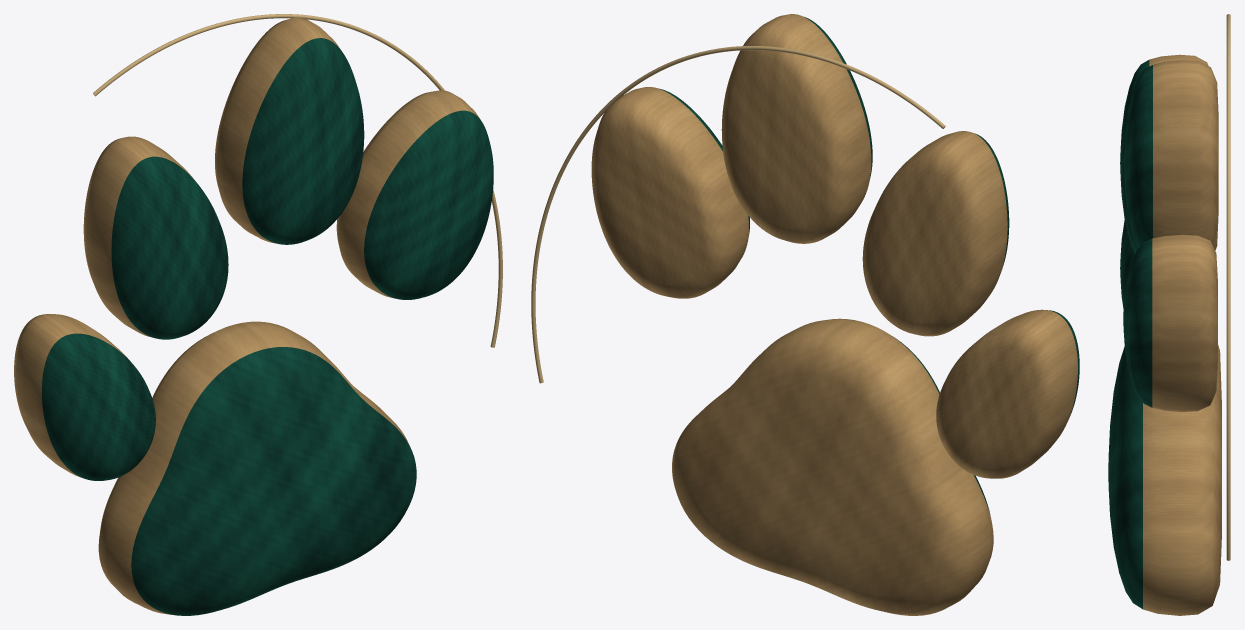
File: huella.glb
3 views of the same model, side by side, from view 1: azimuth 30°, elevation 25°; view 2: azimuth 150°, elevation 25°; view 3: azimuth 270°, elevation 25° (orthographic).
Parts seen in each view (by area): view 1: ALMOHADILLA__CENTRAL, DEDO__03_SUPERIOR_DER, DEDO__04_EXTERIOR_DER, DEDO__02_SUPERIOR_IZQ, DEDO__01_EXTERIOR_IZQ, ARCO__DECORATIVO; view 2: ALMOHADILLA__CENTRAL, DEDO__03_SUPERIOR_DER, DEDO__04_EXTERIOR_DER, DEDO__02_SUPERIOR_IZQ, DEDO__01_EXTERIOR_IZQ, ARCO__DECORATIVO; view 3: ALMOHADILLA__CENTRAL, DEDO__03_SUPERIOR_DER, DEDO__04_EXTERIOR_DER, ARCO__DECORATIVO, DEDO__02_SUPERIOR_IZQ, DEDO__01_EXTERIOR_IZQ.
Boxes of the visible parts, bbox=[...] form: ALMOHADILLA__CENTRAL: bbox=[98, 321, 416, 615]; DEDO__03_SUPERIOR_DER: bbox=[215, 17, 364, 244]; DEDO__04_EXTERIOR_DER: bbox=[336, 90, 493, 299]; DEDO__02_SUPERIOR_IZQ: bbox=[83, 136, 228, 339]; DEDO__01_EXTERIOR_IZQ: bbox=[14, 314, 155, 480]; ARCO__DECORATIVO: bbox=[93, 14, 502, 347]; ALMOHADILLA__CENTRAL: bbox=[672, 318, 993, 615]; DEDO__03_SUPERIOR_DER: bbox=[721, 14, 872, 243]; DEDO__04_EXTERIOR_DER: bbox=[591, 87, 749, 298]; DEDO__02_SUPERIOR_IZQ: bbox=[862, 131, 1009, 336]; DEDO__01_EXTERIOR_IZQ: bbox=[936, 309, 1079, 478]; ARCO__DECORATIVO: bbox=[531, 46, 945, 383]; ALMOHADILLA__CENTRAL: bbox=[1108, 345, 1221, 615]; DEDO__03_SUPERIOR_DER: bbox=[1124, 60, 1218, 250]; DEDO__04_EXTERIOR_DER: bbox=[1123, 234, 1217, 411]; ARCO__DECORATIVO: bbox=[1226, 14, 1230, 560]; DEDO__02_SUPERIOR_IZQ: bbox=[1120, 54, 1208, 253]; DEDO__01_EXTERIOR_IZQ: bbox=[1120, 220, 1134, 308].
Size of the model in its own units: 3.79 by 3.98 by 0.802.
Materials: 3 (2 with a texture image).
